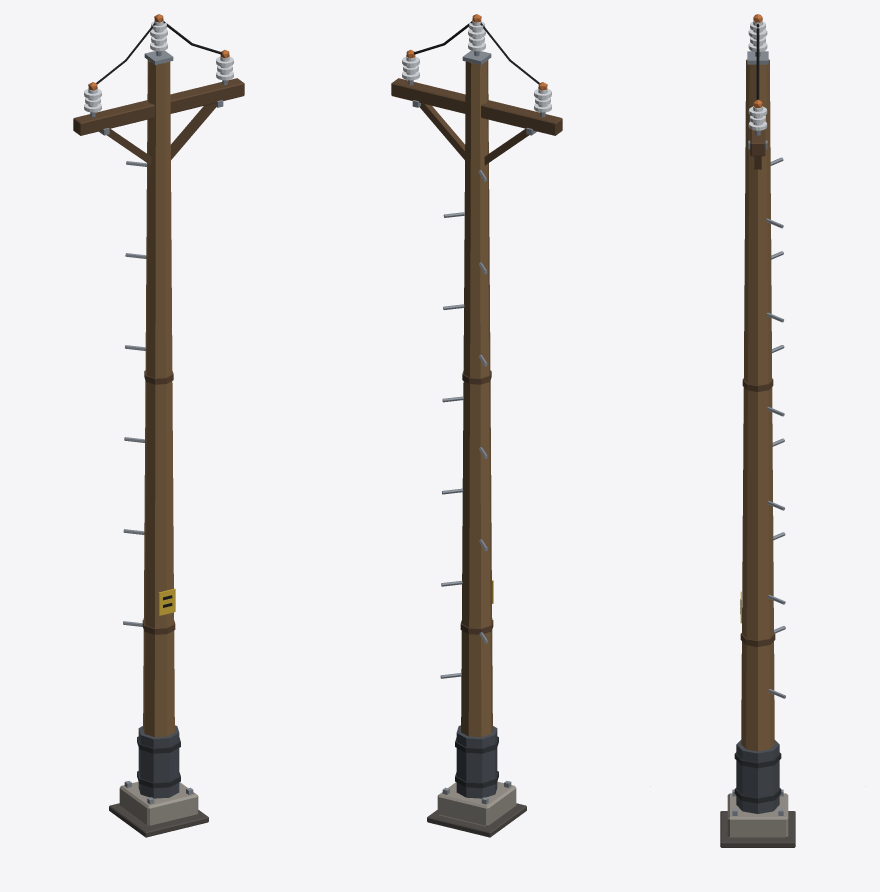
Rendered from poteau_electrique.glb.
The picture shows the model from 3 angles, left to right: view 1: azimuth 30°, elevation 25°; view 2: azimuth 150°, elevation 25°; view 3: azimuth 270°, elevation 25°; orthographic projection.
Parts seen in each view (by area): view 1: fut.002, pieces_bois_sombre.004, sabot.002, pieces_beton.006, pieces_blanc.018, pieces_acier.018, pieces_pierre_sombre.006, pieces_fonte.012; view 2: fut.002, pieces_bois_sombre.004, sabot.002, pieces_beton.006, pieces_acier.018, pieces_blanc.018, pieces_pierre_sombre.006, pieces_fonte.012; view 3: fut.002, sabot.002, pieces_beton.006, pieces_acier.018, pieces_pierre_sombre.006, pieces_bois_sombre.004, pieces_blanc.018, pieces_fonte.012.
Part boxes in pixels (x1,y1,x2,y2): fut.002: [143, 60, 174, 737]; pieces_bois_sombre.004: [73, 78, 244, 634]; sabot.002: [138, 725, 179, 798]; pieces_beton.006: [119, 781, 198, 826]; pieces_blanc.018: [84, 20, 233, 112]; pieces_acier.018: [90, 50, 227, 804]; pieces_pierre_sombre.006: [109, 803, 208, 837]; pieces_fonte.012: [137, 736, 180, 788]; fut.002: [461, 60, 492, 737]; pieces_bois_sombre.004: [391, 78, 562, 634]; sabot.002: [456, 725, 497, 798]; pieces_beton.006: [437, 781, 516, 826]; pieces_acier.018: [408, 50, 545, 804]; pieces_blanc.018: [402, 20, 551, 112]; pieces_pierre_sombre.006: [427, 803, 526, 837]; pieces_fonte.012: [455, 736, 498, 788]; fut.002: [741, 59, 774, 751]; sabot.002: [736, 740, 779, 813]; pieces_beton.006: [727, 793, 788, 838]; pieces_acier.018: [732, 51, 785, 815]; pieces_pierre_sombre.006: [720, 811, 795, 847]; pieces_bois_sombre.004: [740, 106, 775, 646]; pieces_blanc.018: [748, 20, 767, 130]; pieces_fonte.012: [734, 752, 781, 803].
Size of the model in its own units: 1 by 4.18 by 1.
